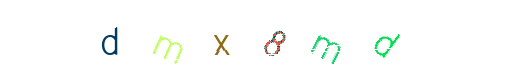8: (220, 0, 300, 80)
D: (129, 0, 209, 80), (315, 0, 395, 80)
M: (133, 0, 213, 80), (233, 0, 313, 80)
X: (204, 0, 284, 80)
